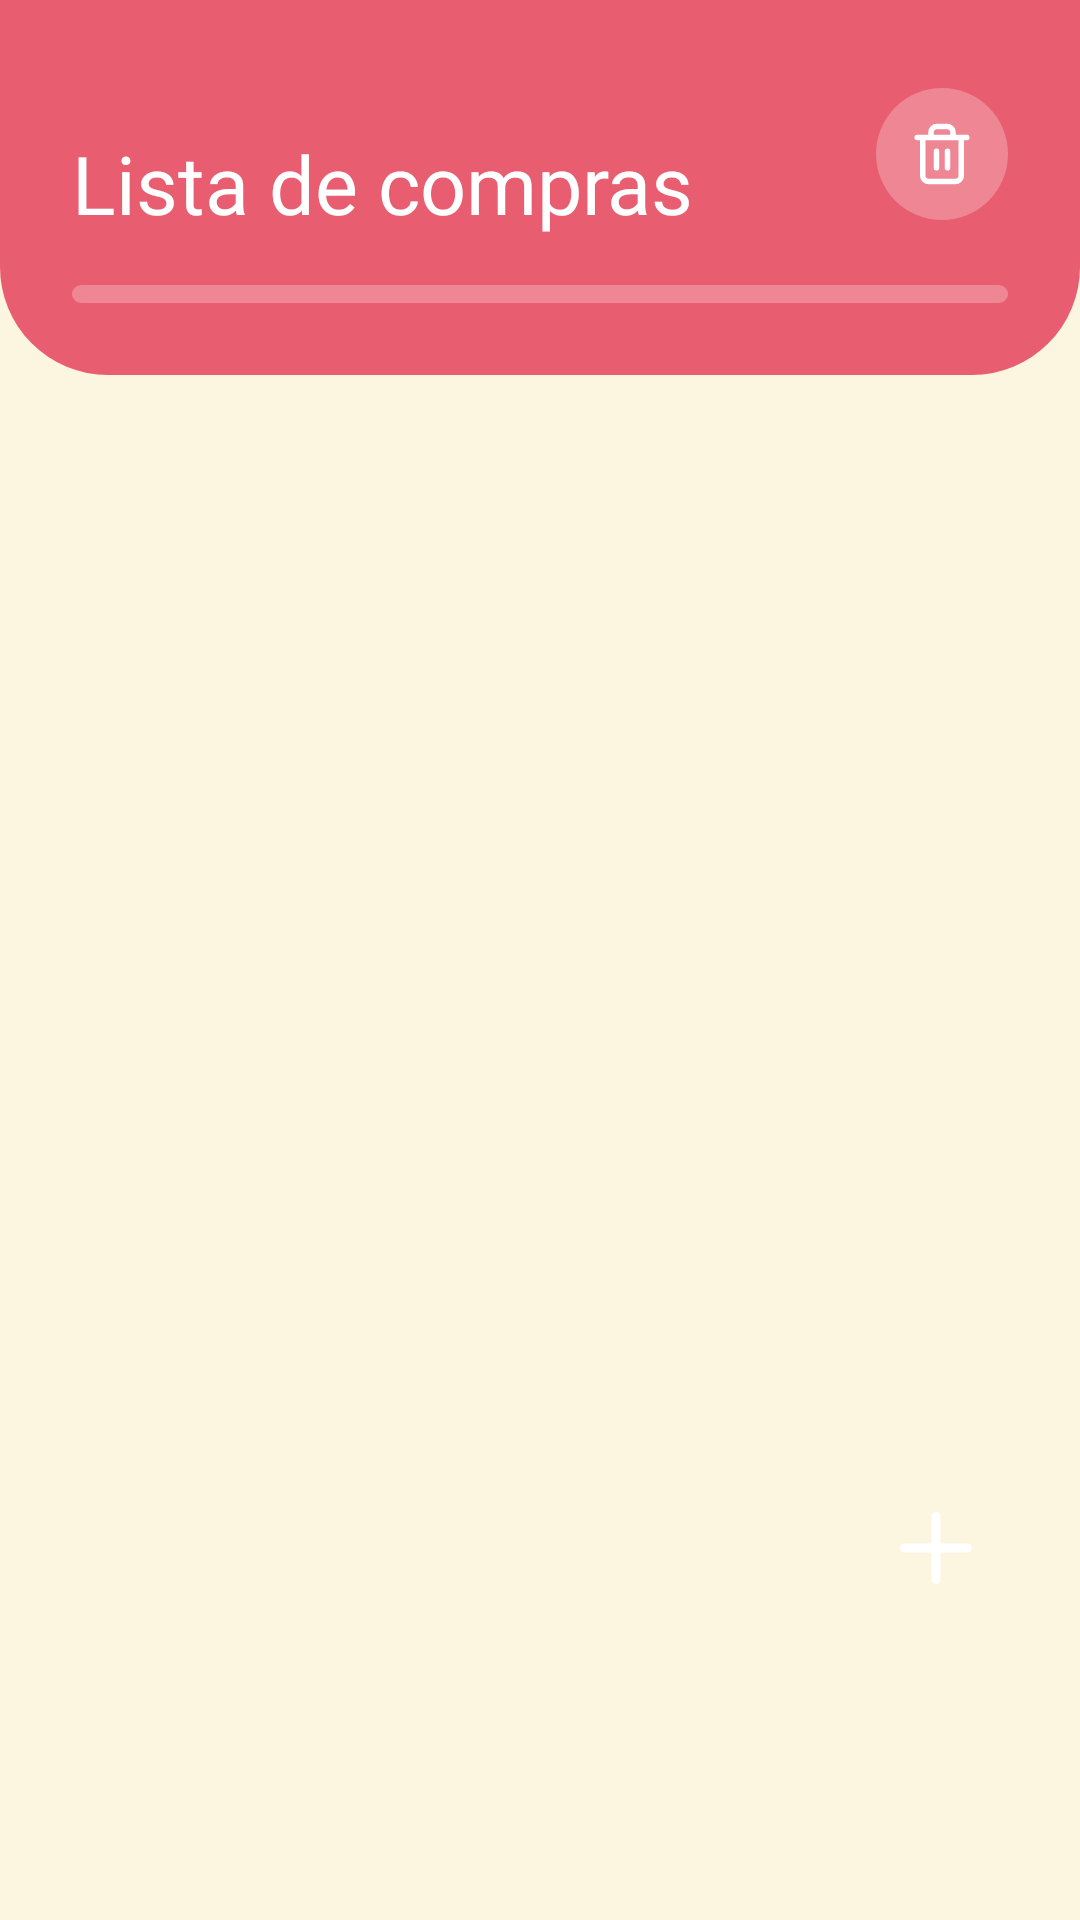

Screen size 1080*1920. Icon name, then its box in pixels as (x1, y1, x2, y2):
Agregar Compra: (900, 1512, 972, 1584)
Limpiar lista: (876, 88, 1008, 220)
